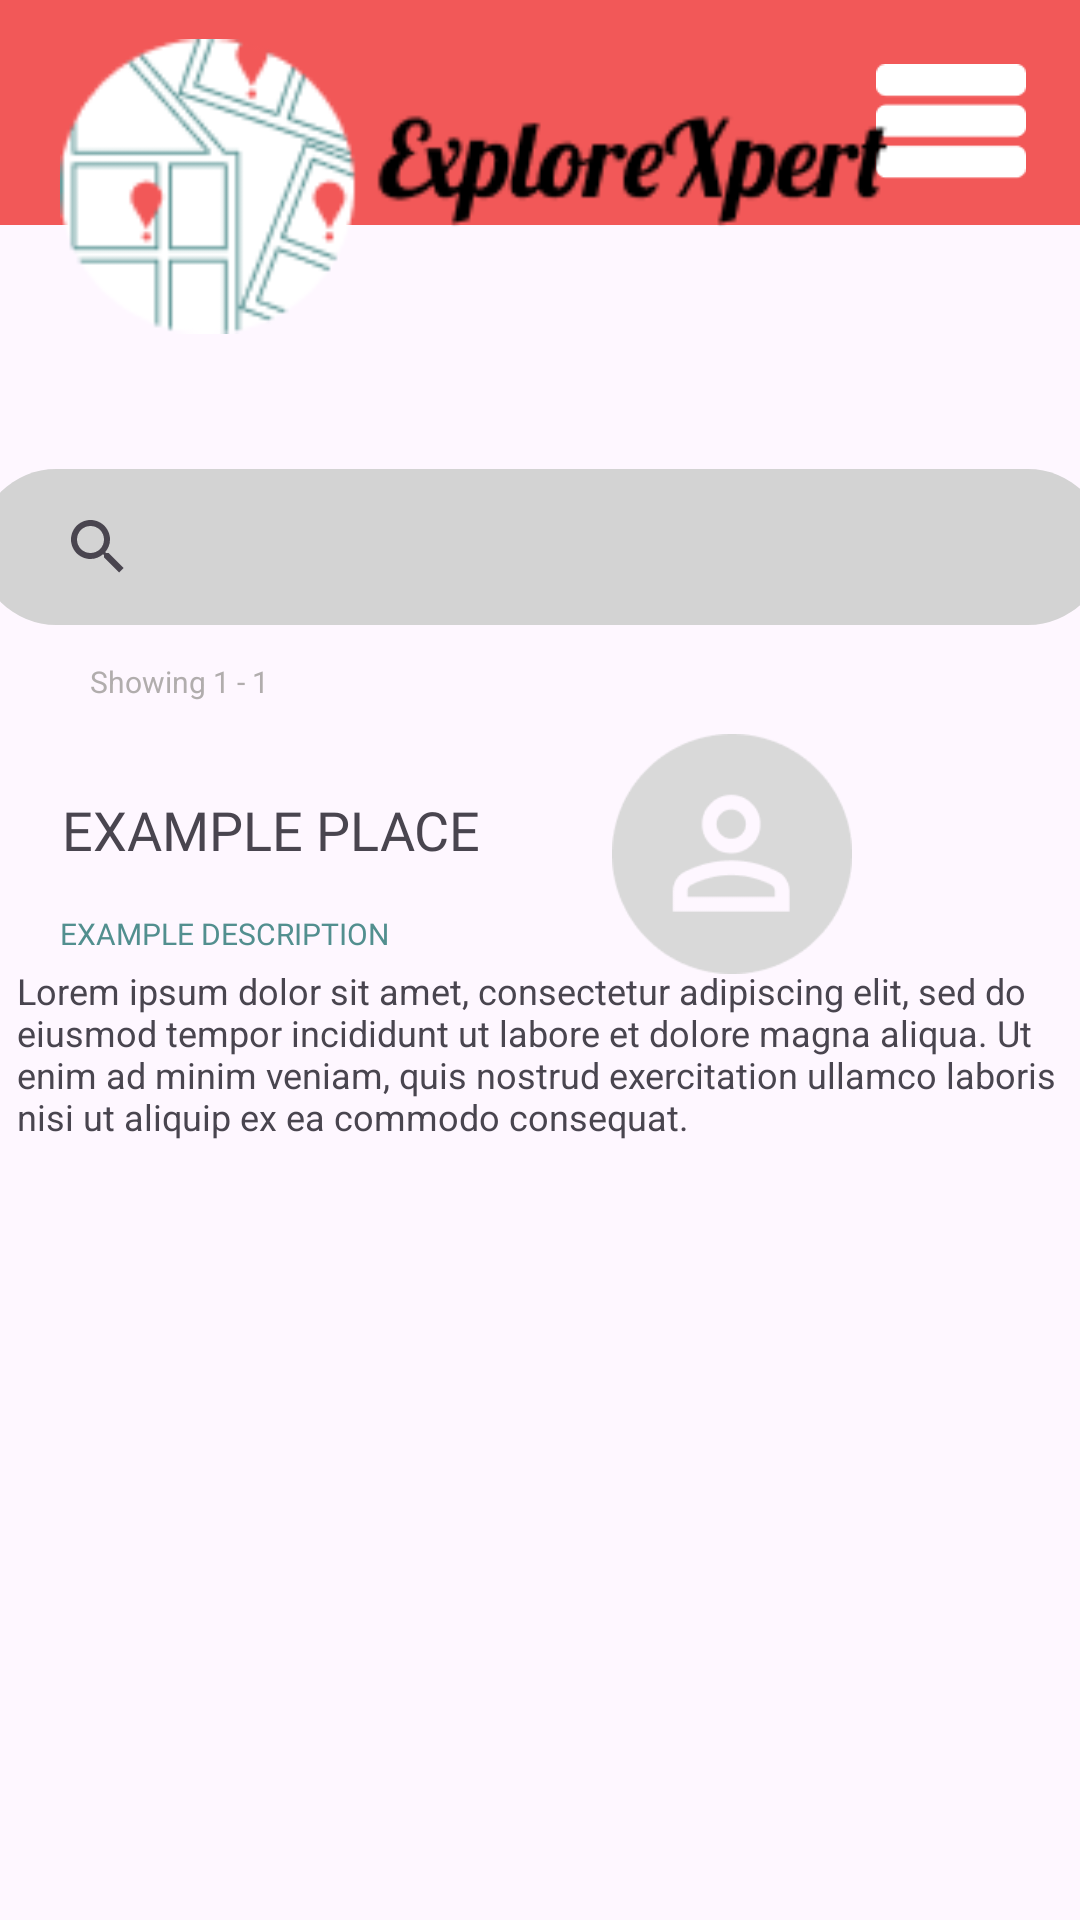

Icons on this 1080x1920 Android screen, each with its box as (x1, y1, x2, y2):
Menu Button: (876, 64, 1026, 196)
